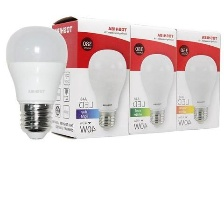carton: (44, 12, 136, 143), (109, 19, 182, 139), (155, 25, 222, 137)
light_bulb: (1, 23, 68, 142)
